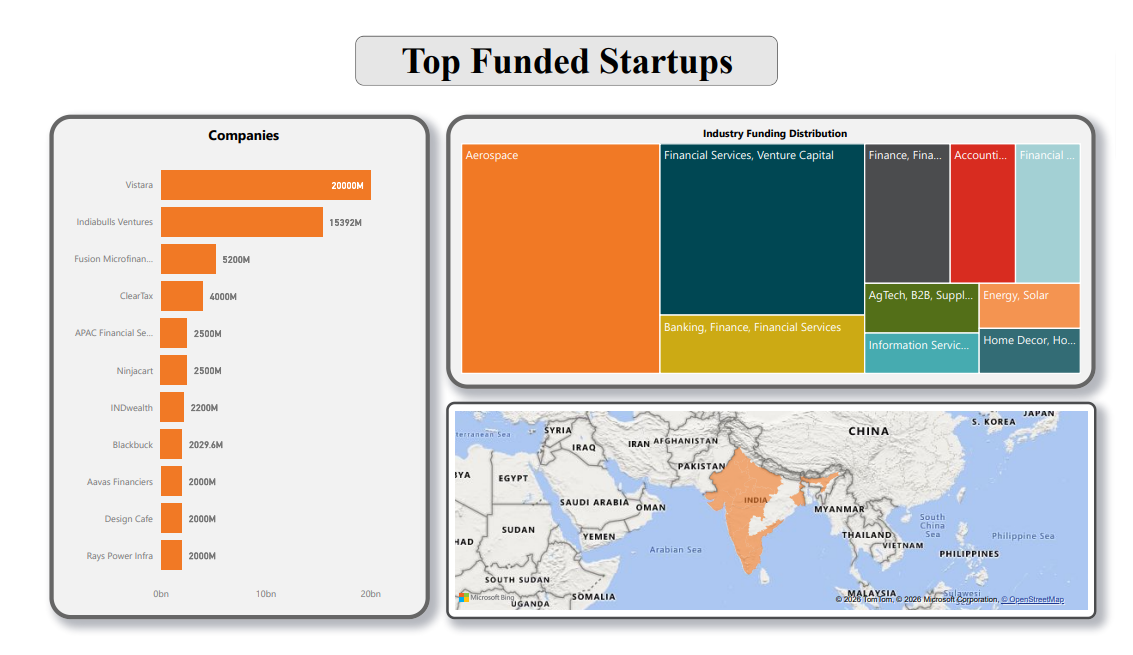

What the dashboard file says about the page in this screenshot:
{"tool":"powerbi","page":{"name":"Page 2","canvas":[1280,720],"ordinal":1},"visuals":[{"type":"treemap","title":"Industry Funding Distribution","fields":{"Group":["startup_funding2018.Industry"],"Values":["Sum(startup_funding2018.Amount)"]},"box":[498.6,111.4,758.6,320],"z":0},{"type":"barChart","title":"Companies","fields":{"Category":["startup_funding2018.Company Name"],"Y":["Sum(startup_funding2018.Amount)"]},"box":[35.7,111.4,444.3,588.6],"z":1000},{"type":"textbox","title":"Top Funded Startups","box":[392.9,18.6,492.9,58.6],"z":2000},{"type":"filledMap","fields":{"Category":["startup_funding2018.State"]},"box":[498.8,446.2,758.8,253.8],"z":3000}]}

Visuals, with their boxes in screenshot pixels (x1, y1, x2, y2), scaled from the page's 1280x720 canvas onto the 1133x655 screenshot:
"Industry Funding Distribution" treemap: locate(441, 101, 1113, 392)
"Companies" barChart: locate(32, 101, 425, 637)
"Top Funded Startups" textbox: locate(348, 17, 784, 70)
filledMap - startup_funding2018.State: locate(442, 406, 1113, 637)
